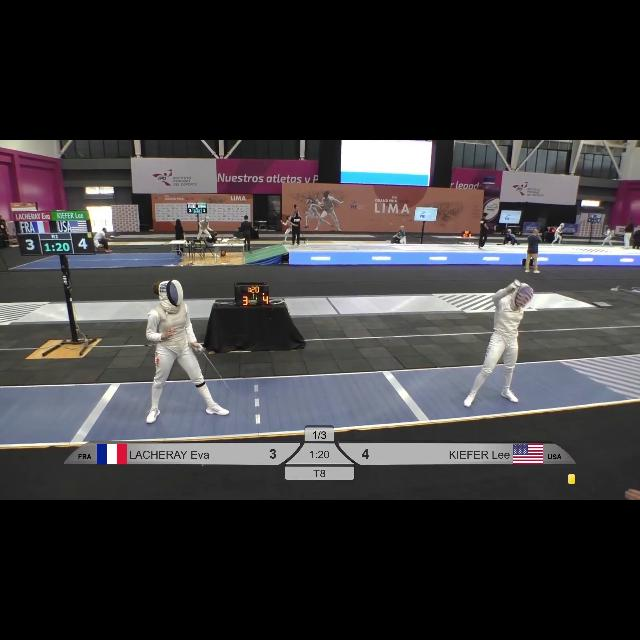blade: (199, 346, 243, 404)
